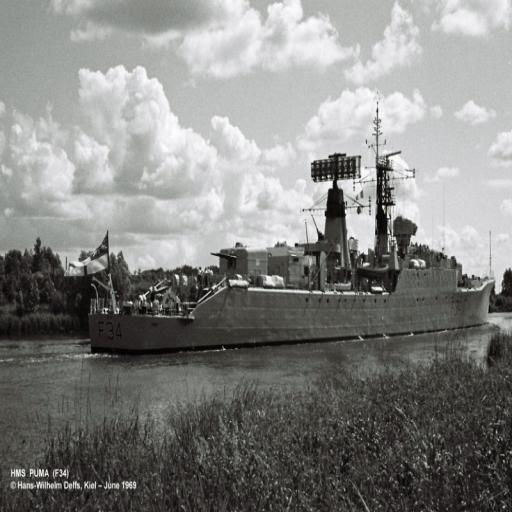Fragata: (83, 93, 498, 364)
